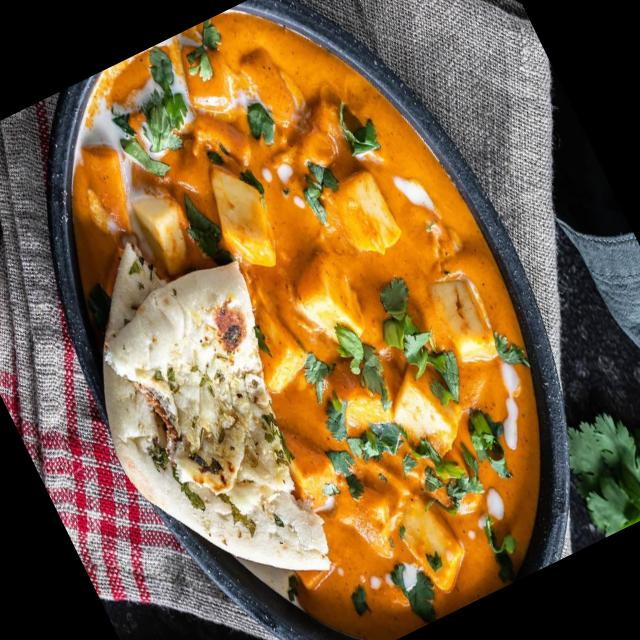roti: (77, 284, 320, 601)
